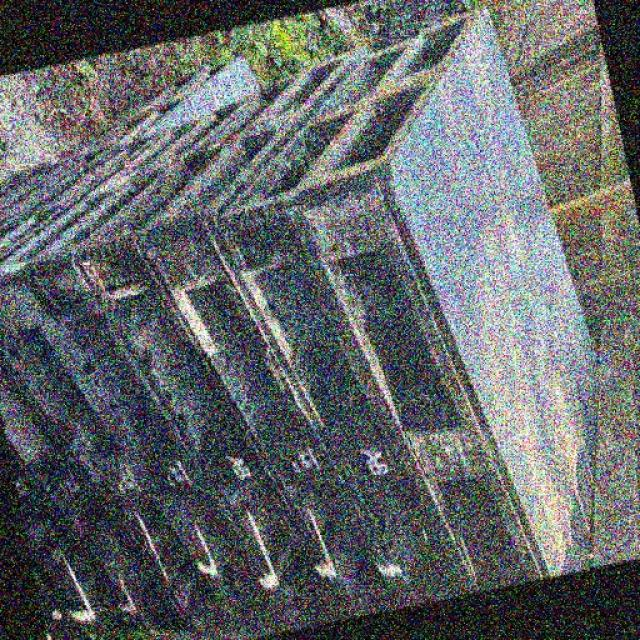non-igps: (280, 0, 606, 599), (132, 36, 437, 626), (64, 66, 371, 636), (203, 26, 491, 624), (16, 97, 321, 640), (136, 46, 272, 146), (87, 58, 220, 158)
